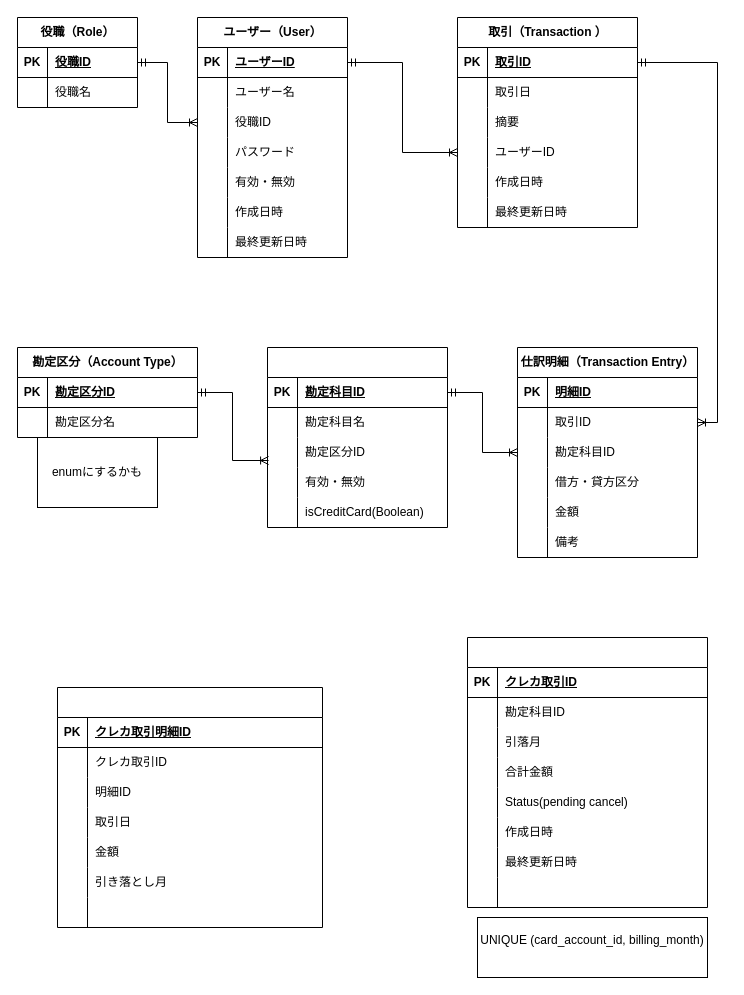
This 744x995 diagram has some shape labels left out. Here are the shapes that lost their labels. From the top down, the box of each, then its label:
(266, 346, 448, 528): 勘定科目（Account）
(466, 636, 708, 908): クレカ取引（CreditCardTransaction）
(56, 686, 322, 928): クレカ取引明細（CCTransaction Entry）
